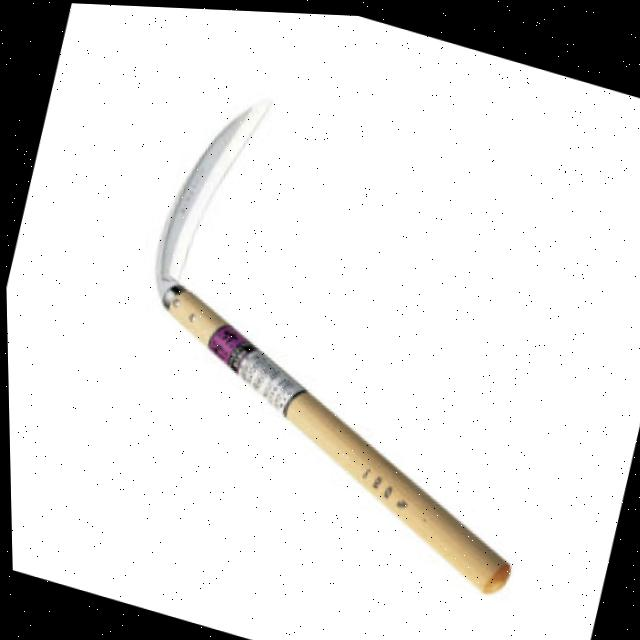sickle: (20, 24, 626, 626)
